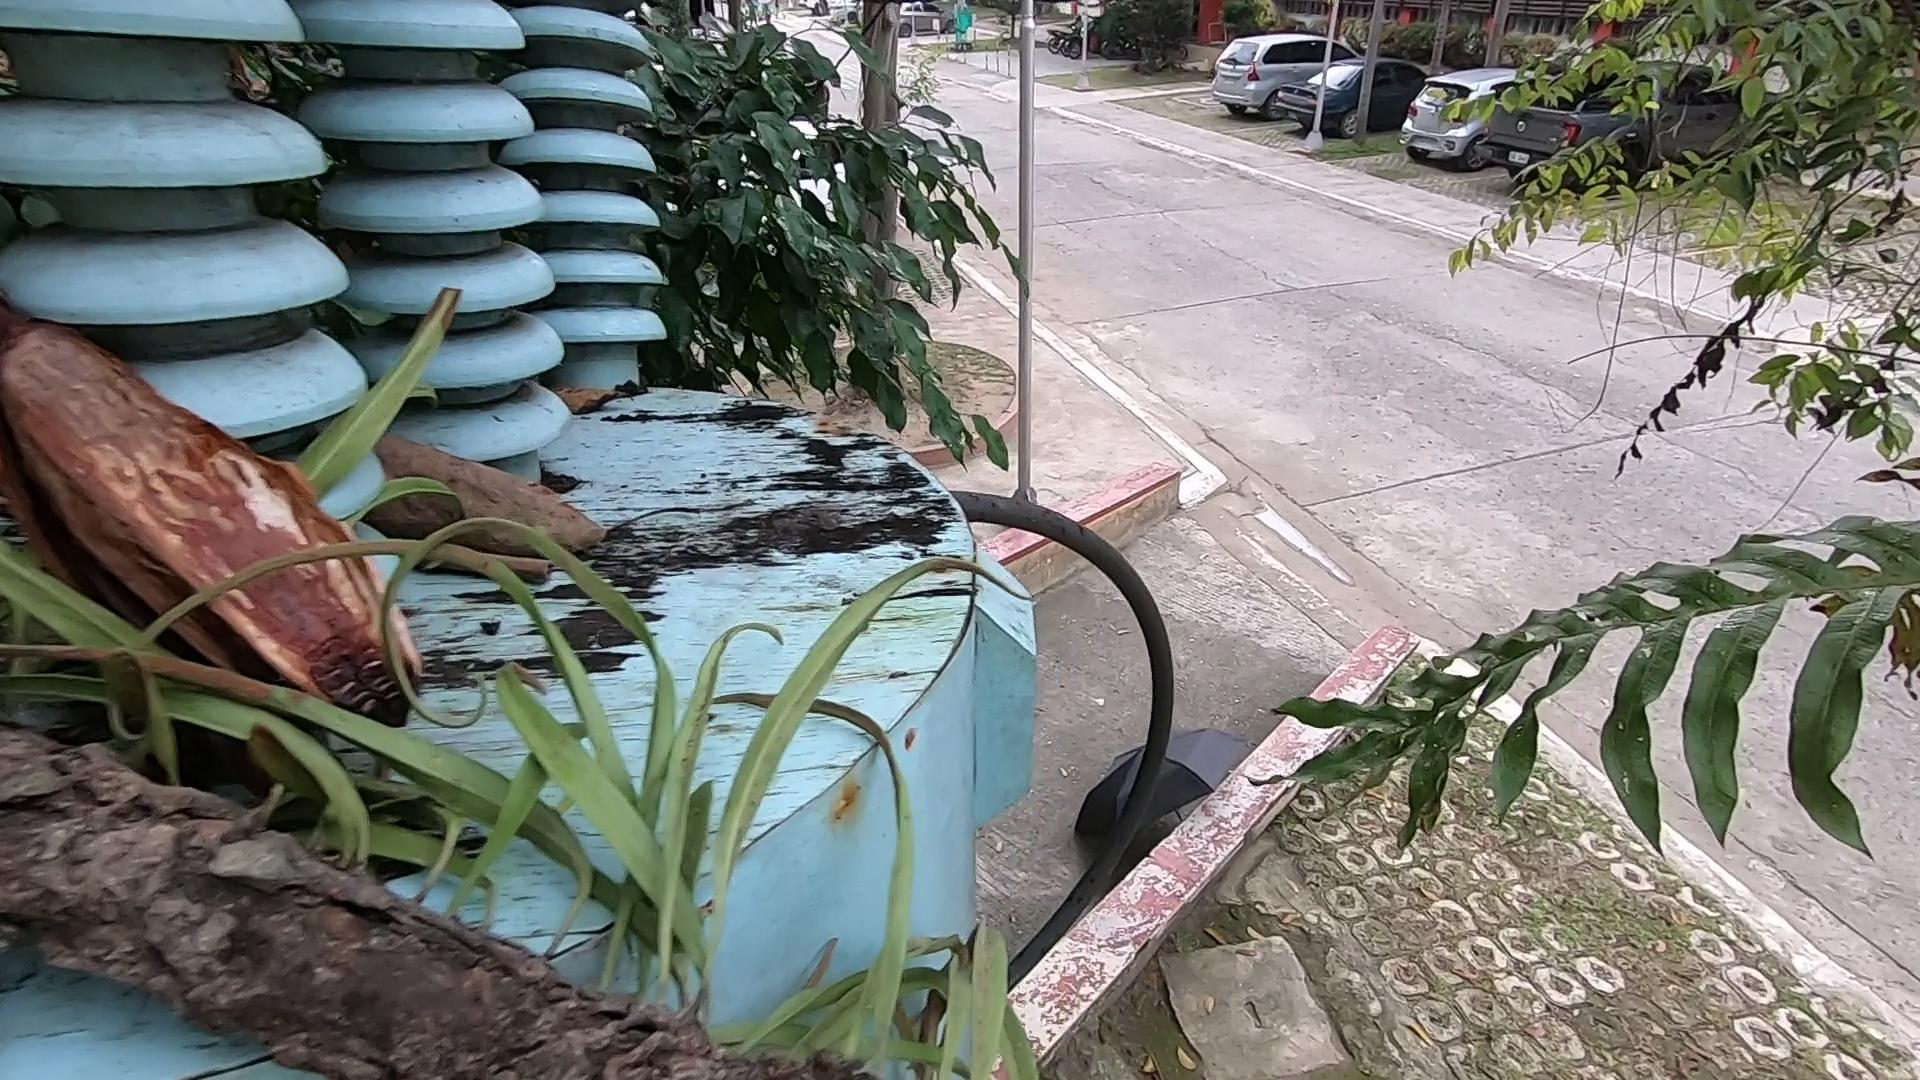branch with leaves: (8, 728, 764, 1080)
leaf: (582, 368, 644, 425)
mahogany fruit: (16, 179, 330, 785), (347, 411, 624, 628)
tree branch: (375, 512, 597, 593)
